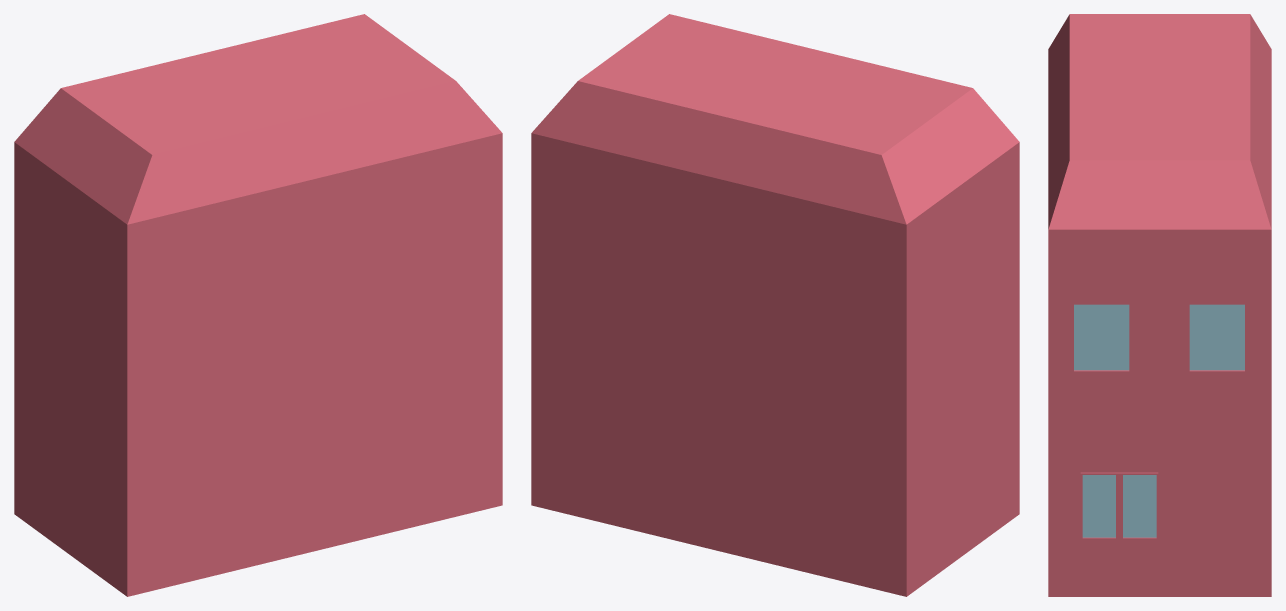
File: Bâtiment_4.fbx
3 views of the same model, side by side, from view 1: azimuth 30°, elevation 25°; view 2: azimuth 150°, elevation 25°; view 3: azimuth 270°, elevation 25° (orthographic).
Visible parts, largest first — view 1: Cube.001; view 2: Cube.001; view 3: Cube.001.
Boxes of the visible parts, left/top/right/bottom form: Cube.001: left=14, top=14, right=502, bottom=596; Cube.001: left=531, top=14, right=1019, bottom=596; Cube.001: left=1048, top=14, right=1271, bottom=596.
Size of the model in its own units: 742 by 800 by 385.
